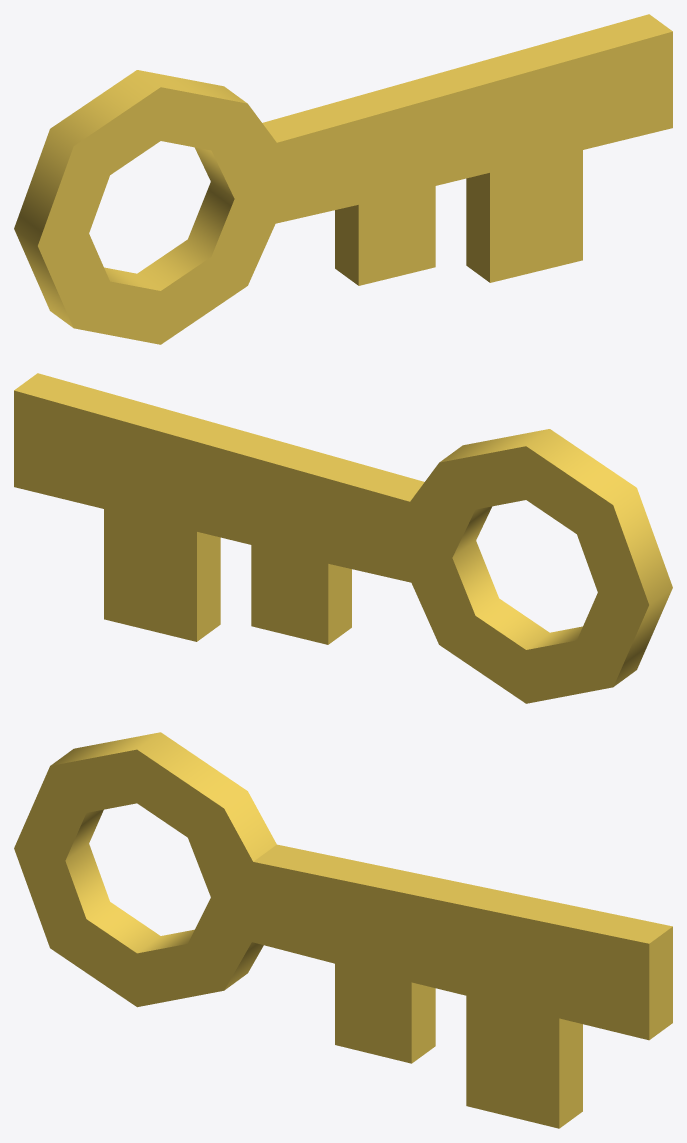
File: SM_Key_Decoration_06.fbx
3 views of the same model, one above another, from view 1: azimuth 30°, elevation 25°; view 2: azimuth 150°, elevation 25°; view 3: azimuth 330°, elevation 25° (orthographic).
Visible parts, largest first — view 1: SM_Key_Decoration_06; view 2: SM_Key_Decoration_06; view 3: SM_Key_Decoration_06.
Boxes of the visible parts, x1=… form: SM_Key_Decoration_06: x1=14, y1=14, x2=672, y2=344; SM_Key_Decoration_06: x1=14, y1=373, x2=672, y2=703; SM_Key_Decoration_06: x1=14, y1=732, x2=672, y2=1128.
Bounding box in the file's own units: 24.11 × 10.02 × 1.56.
